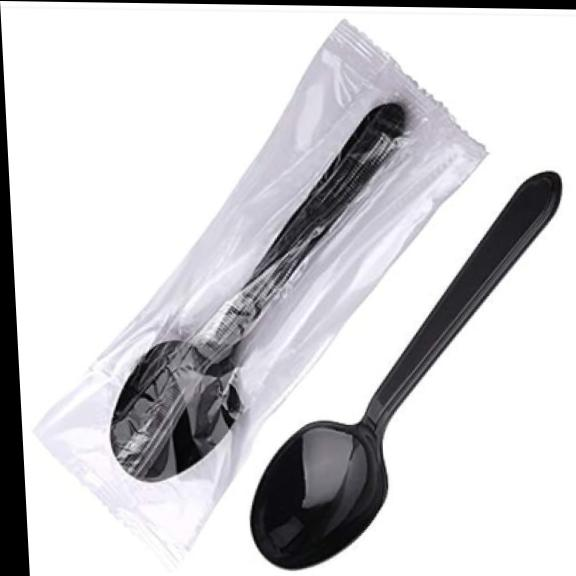Plastik: (251, 171, 561, 568), (110, 103, 404, 480)
